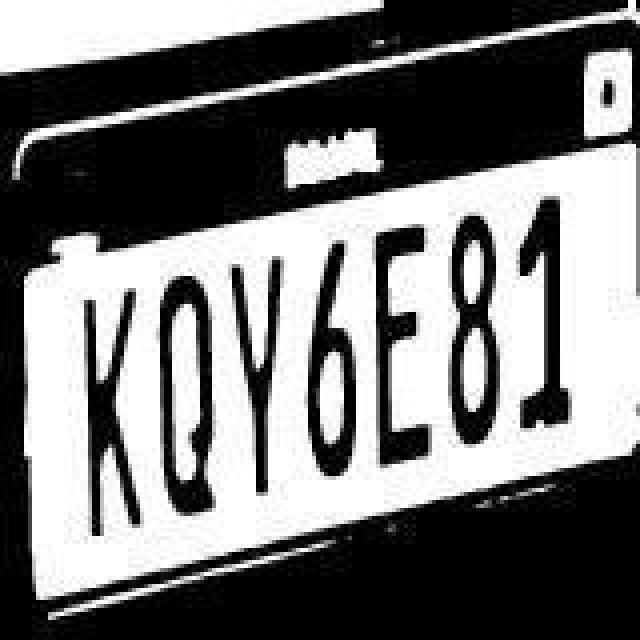1: (512, 186, 576, 462)
6: (302, 222, 362, 506)
8: (440, 196, 504, 476)
E: (368, 210, 432, 494)
K: (76, 264, 148, 560)
Q: (148, 254, 220, 546)
Y: (224, 230, 288, 522)
